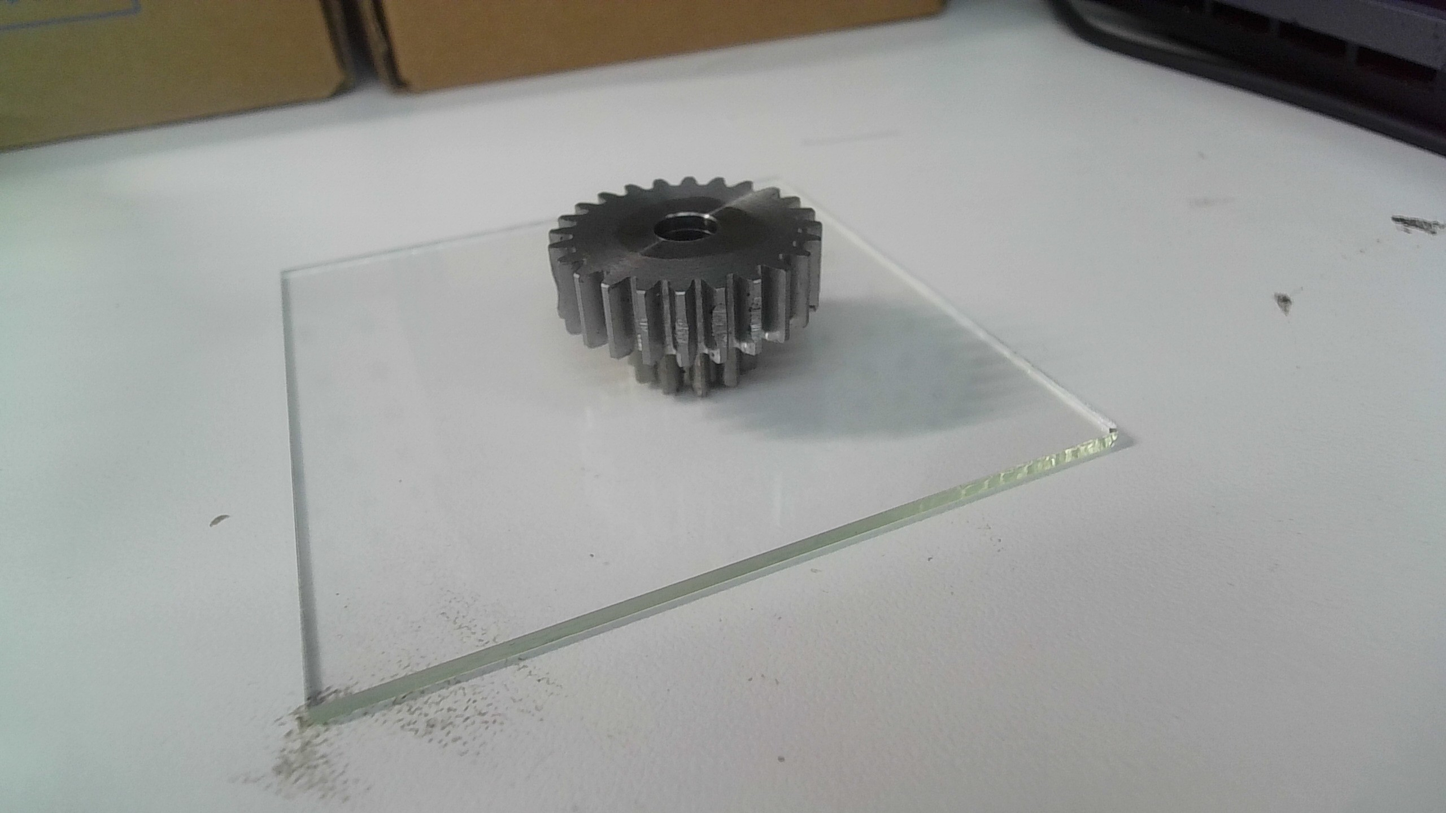gear: (544, 176, 831, 403)
